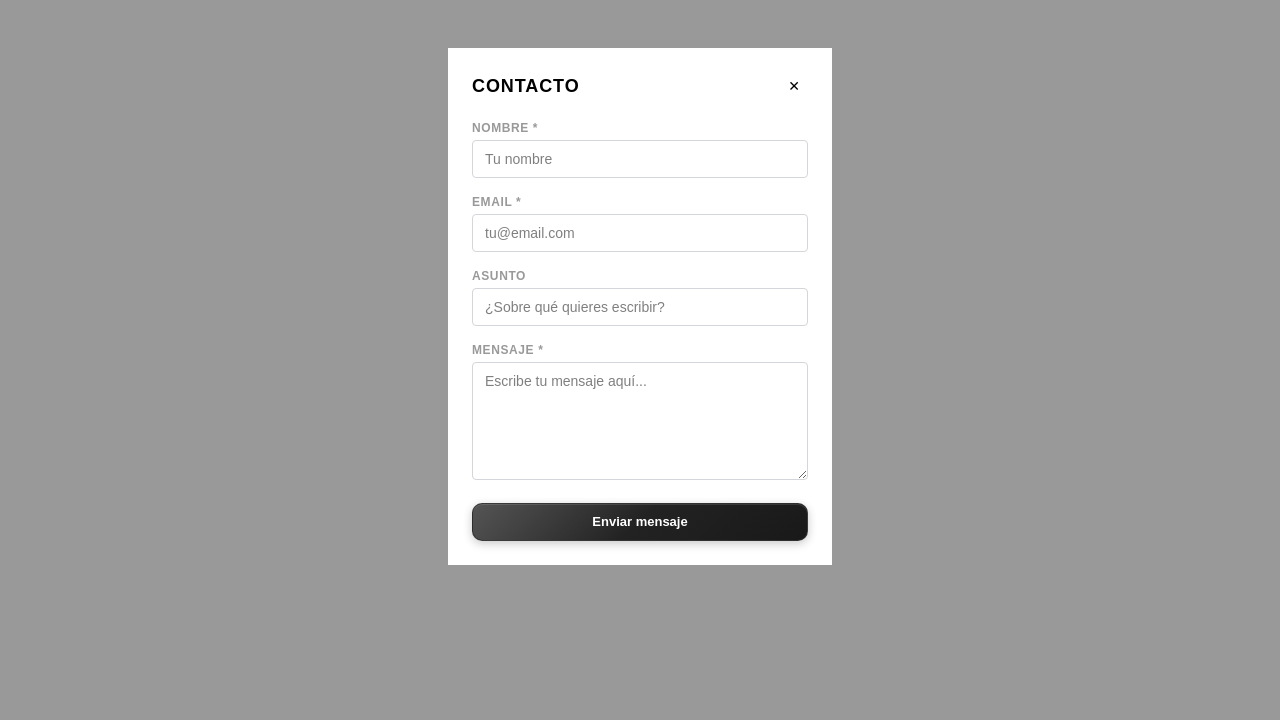
Test: ContactModal component › shows error message when API returns error
Type "Juan Pérez" into the field with placeholder "Tu nombre" at (640, 159), box [472,140,808,178]
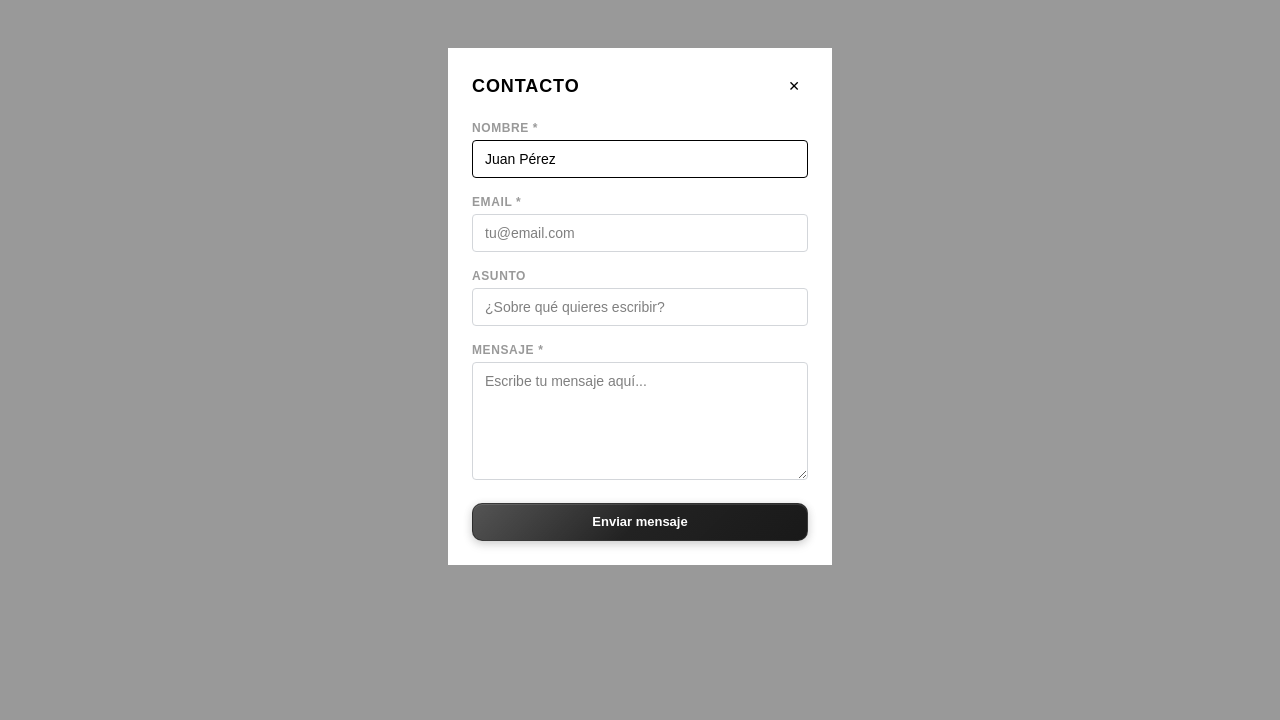
Type "juan@example.com" into the field with placeholder "tu@email.com" at (640, 233), box [472,214,808,252]
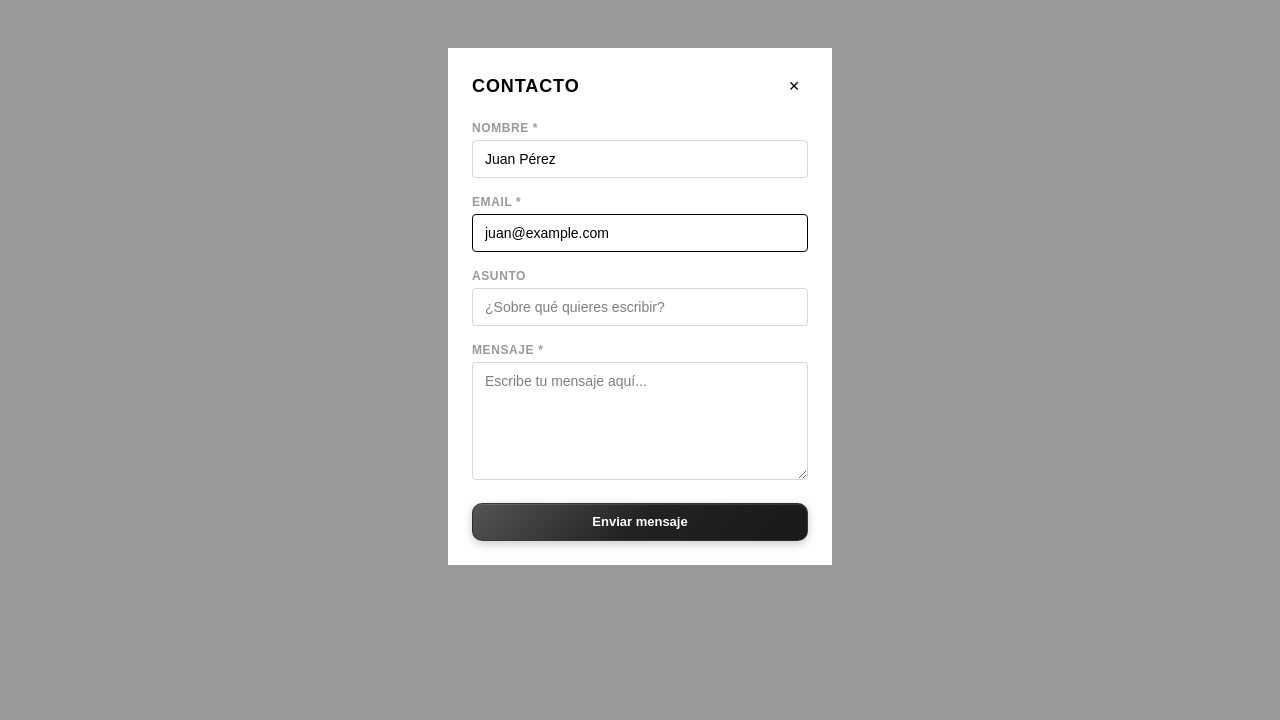
Type "Hola, me gusta el juego. Muy buen trabajo." into the text box with placeholder "Escribe tu mensaje aquí..." at (640, 421), box [472,362,808,480]
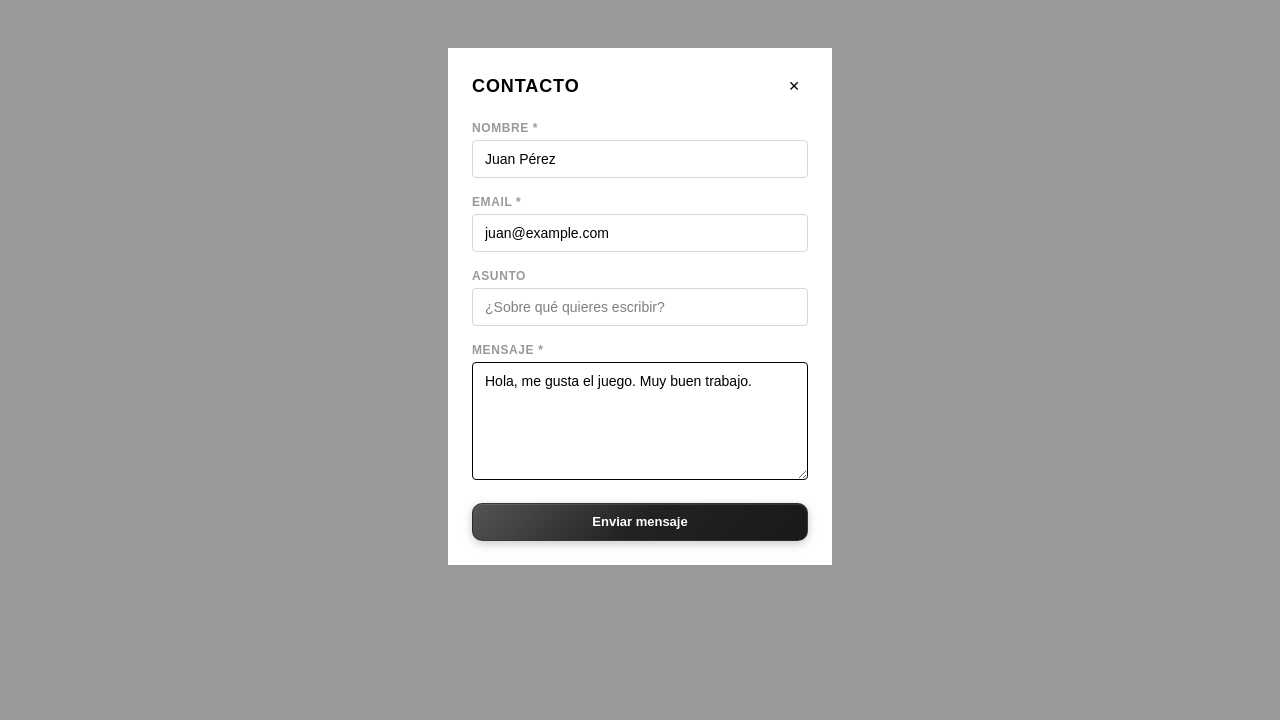
Click the button "Enviar mensaje" at (640, 522), box [472,503,808,540]
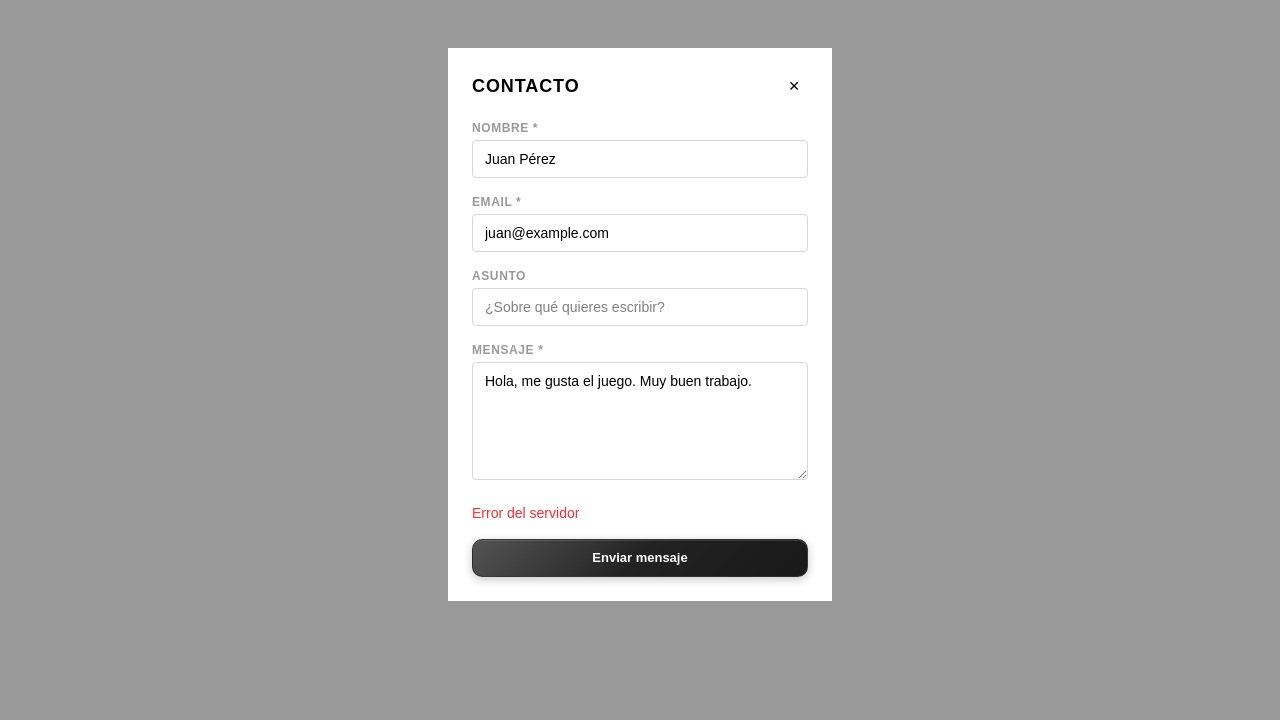
Now the text "Error del servidor" is shown, box [472,505,579,521]
